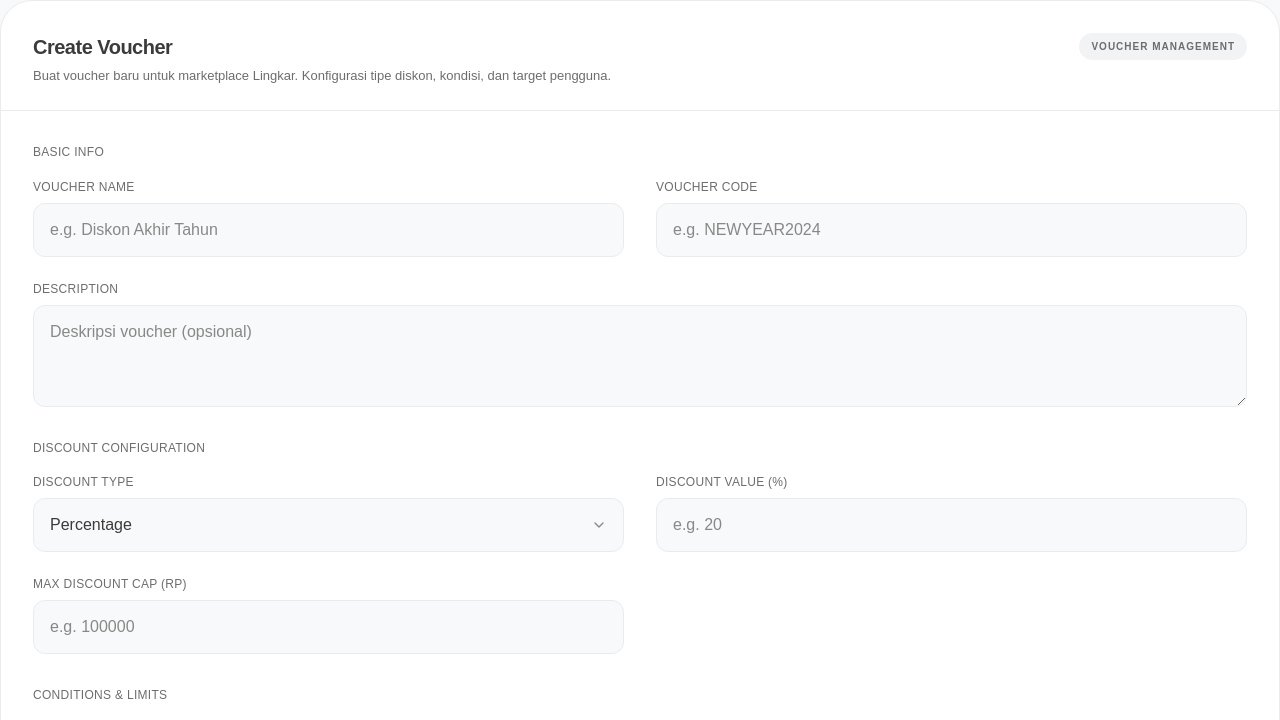
Test: VoucherCreatePage › conditional field rendering per discount_type › shows service_category_id and hides discount_value for free_service
Expected: the heading "Create Voucher" is shown, [33,36,172,58]
Click the button with id "discount_type": click(91, 525) [33,498,624,552]
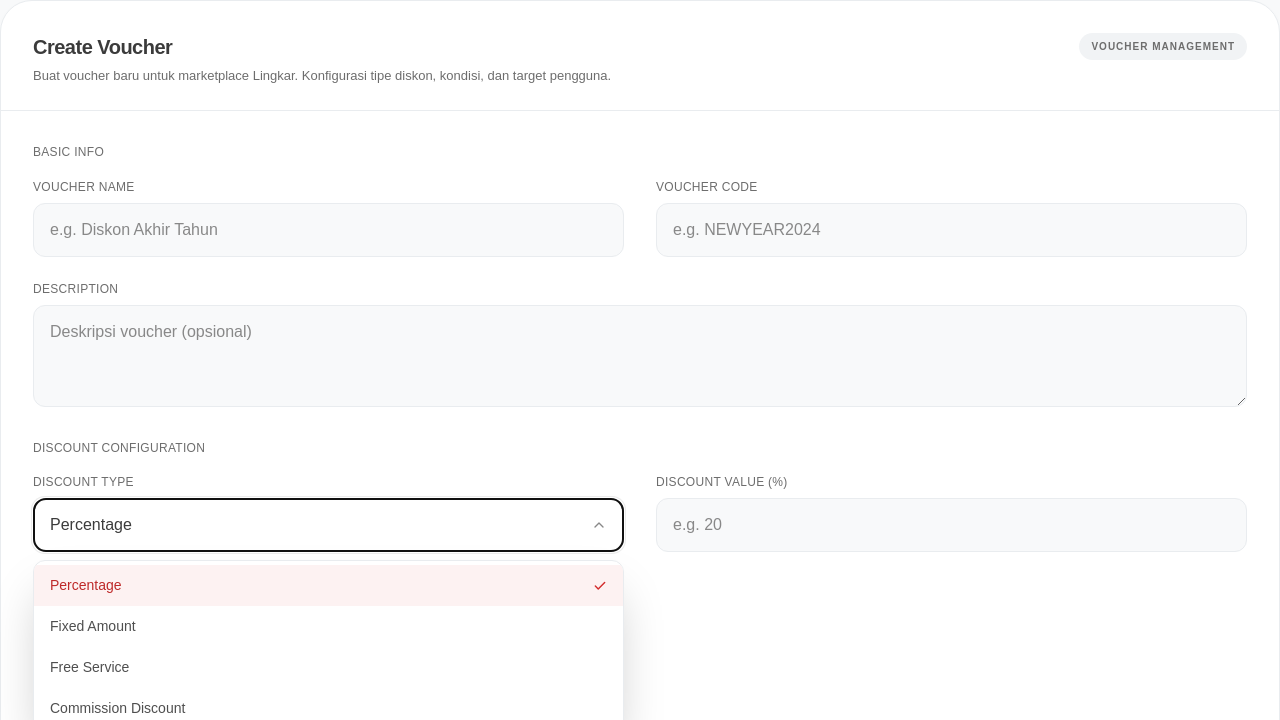
Click the option "Free Service": click(90, 667) [50,659,129,675]
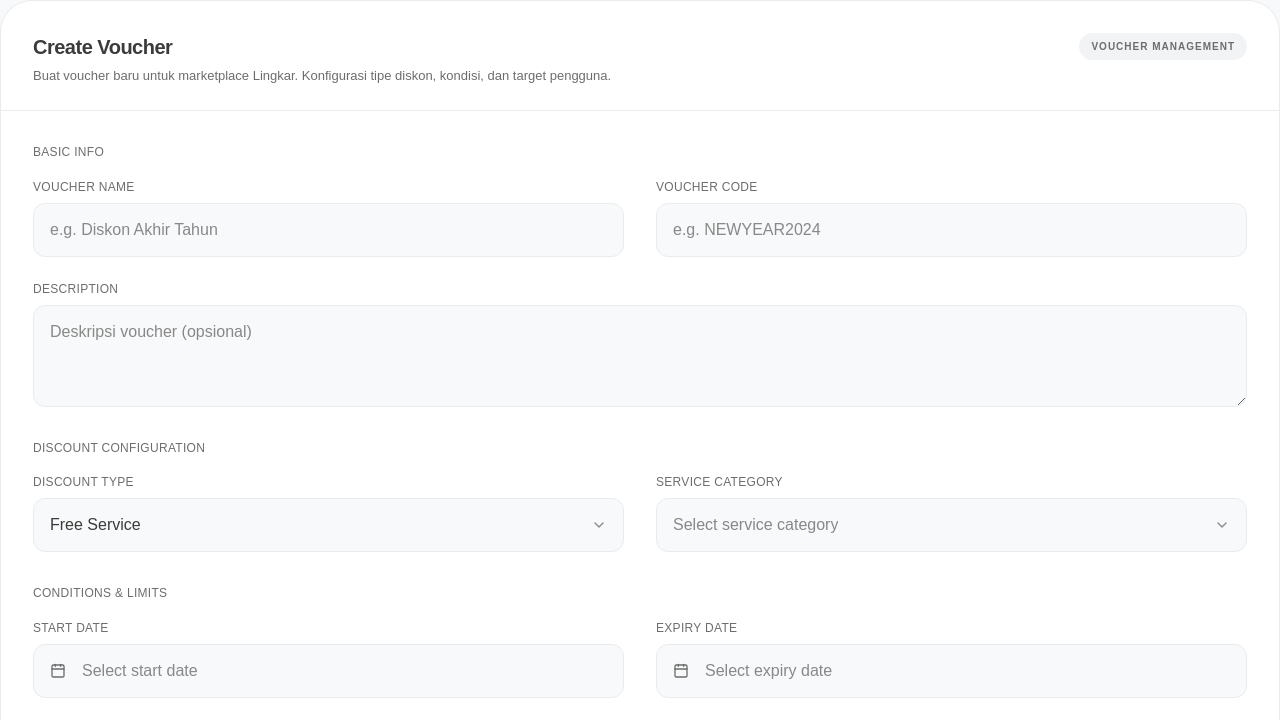
Result: the button with id "service_category_id" is shown at [656,498,1247,552]
Result: the label labelled "Discount Value" is gone
Result: the label labelled "Max Discount Cap (Rp)" is gone
